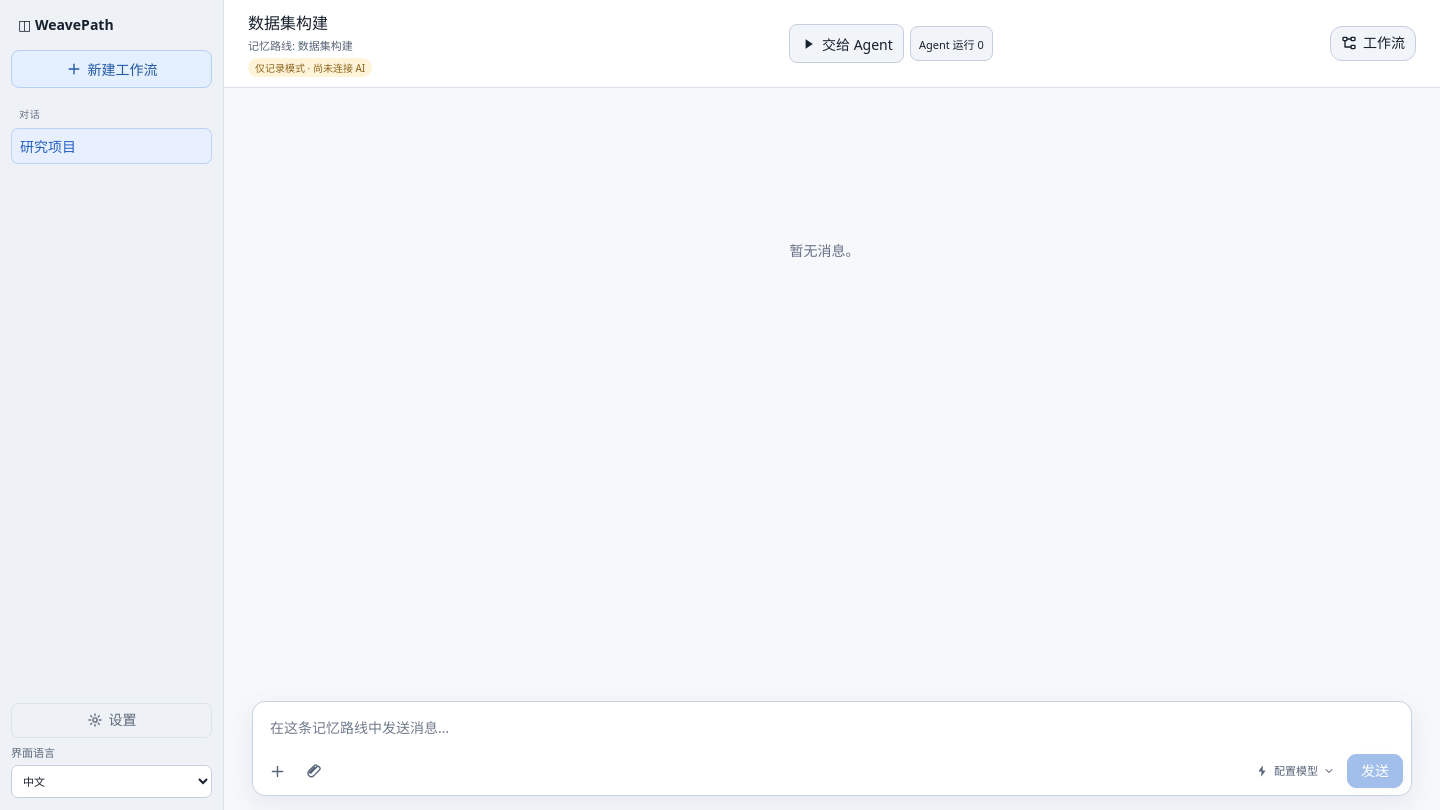
it: chat delivery mode › saves through the message endpoint when AI is not configured
Check: the text "仅记录模式 · 尚未连接 AI" is shown, box [248, 58, 372, 77]
Type "测试消息" into the text box at (832, 730), box [261, 709, 1403, 751]
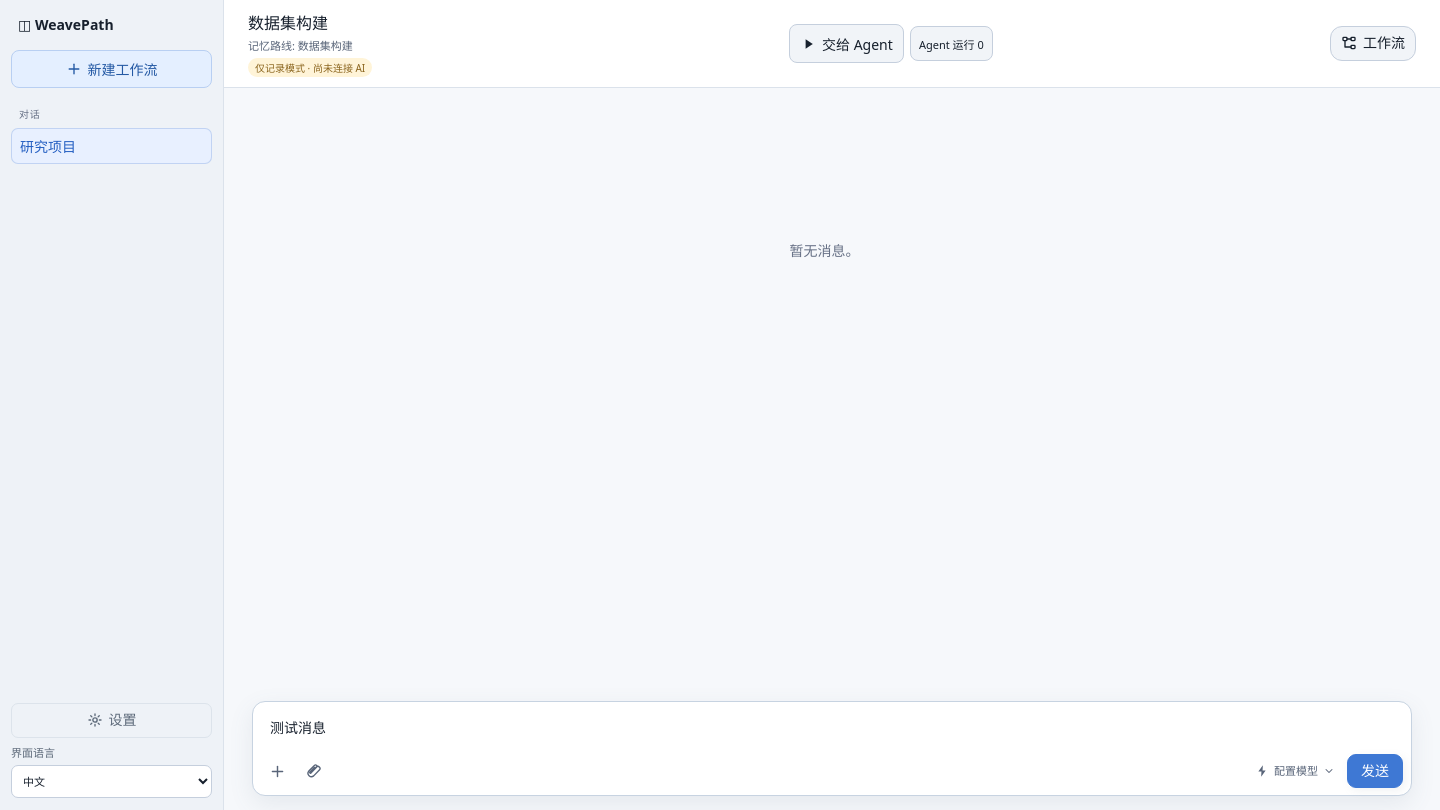
Click the button "发送" at (1375, 771), box [1347, 754, 1403, 788]
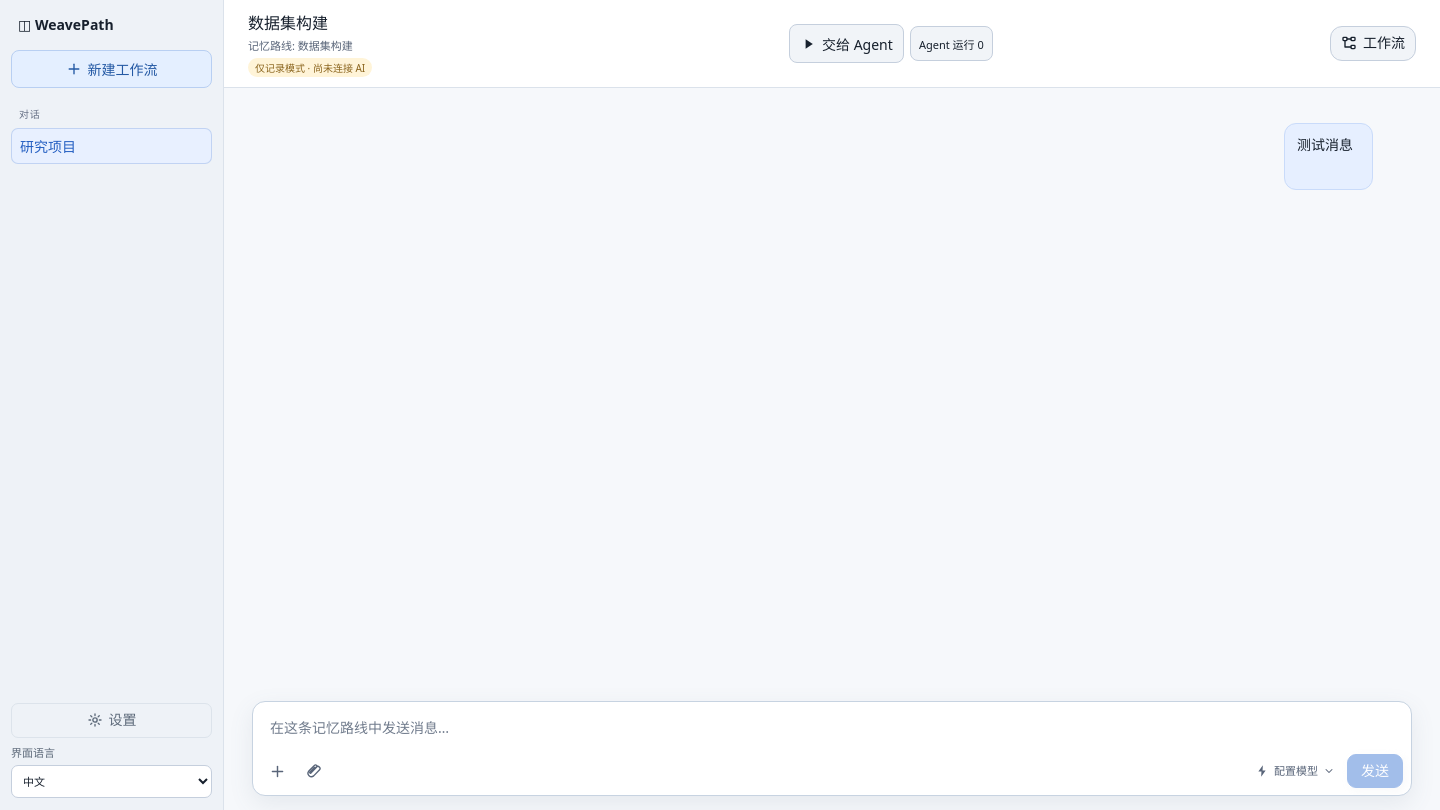
Check: the text "测试消息" is shown, box [1297, 135, 1353, 154]
